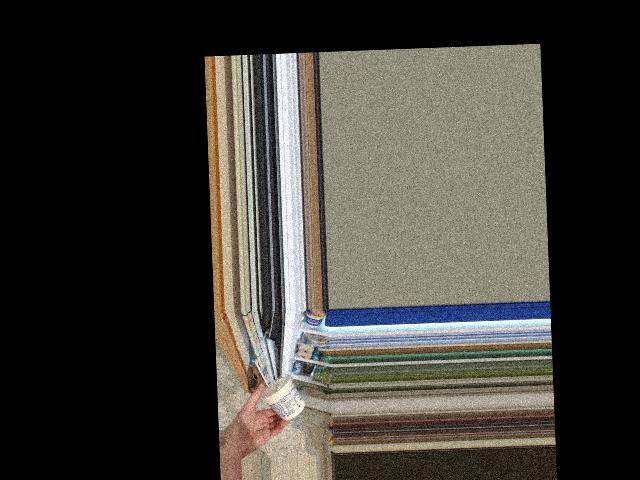cotage: (259, 371, 303, 415)
